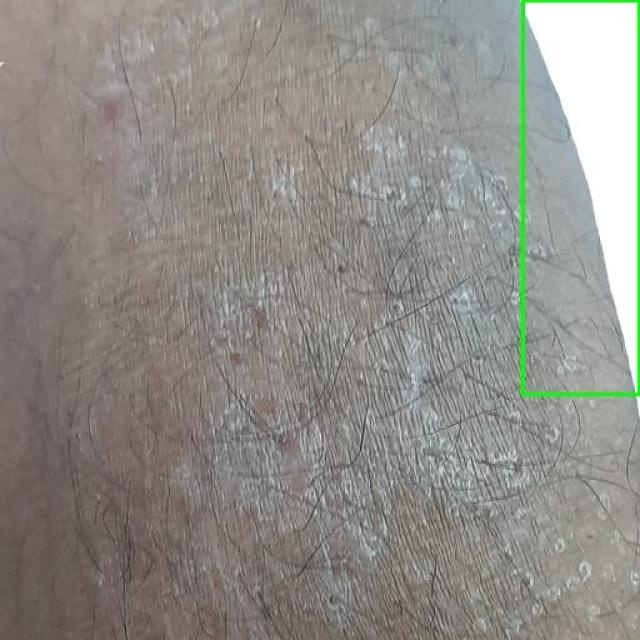Contact Dermatitis: (522, 0, 639, 394)
